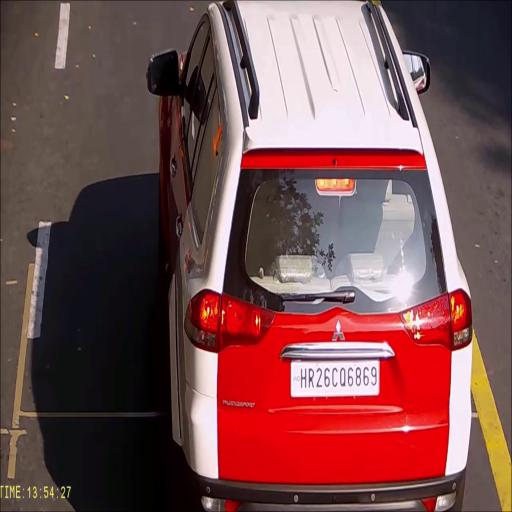License plate: (290, 358, 380, 398)
Vehicle: (146, 0, 474, 512)
